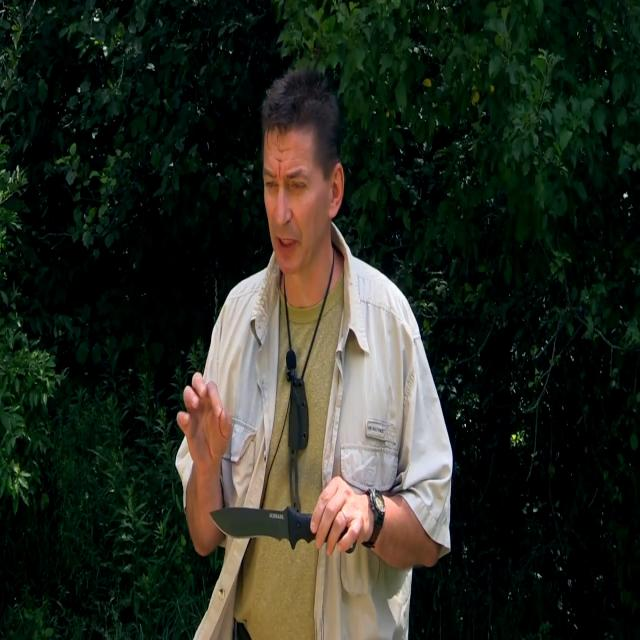knife: (211, 501, 317, 548)
